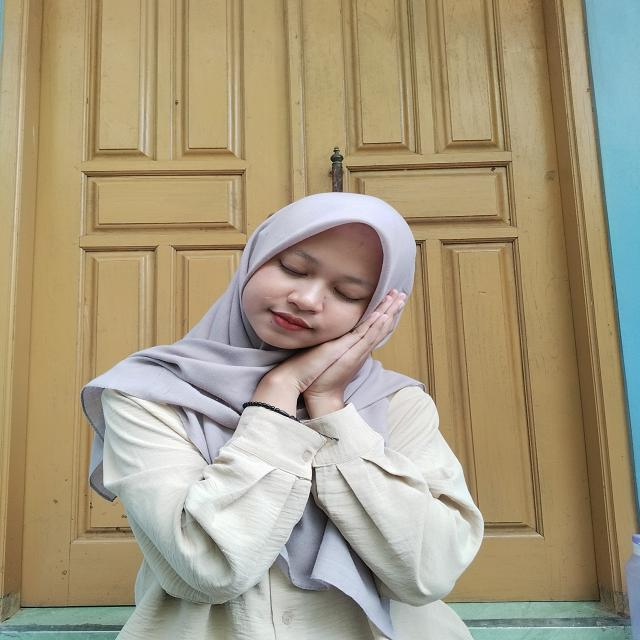tidur: (216, 286, 411, 456)
